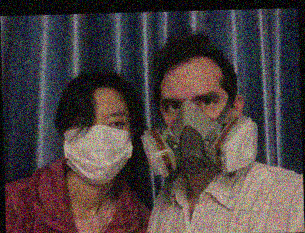with_mask: (158, 88, 233, 177), (62, 108, 133, 184)
